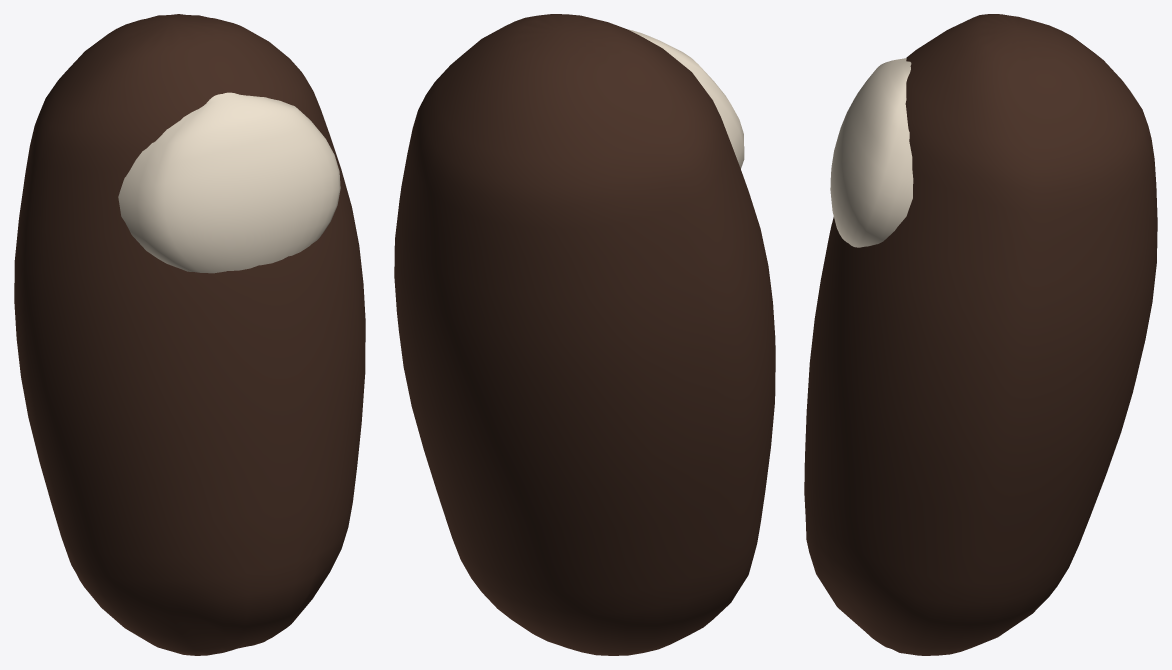
The model's file is Baby.fbx.
3 renders of one model, left to right at view 1: azimuth 30°, elevation 25°; view 2: azimuth 150°, elevation 25°; view 3: azimuth 270°, elevation 25°, orthographic. The views are drawn at different scales.
Visible parts, largest first — view 1: Sphere.001; view 2: Sphere.001; view 3: Sphere.001.
Boxes of the visible parts, left/top/right/bottom form: Sphere.001: left=14, top=14, right=365, bottom=655; Sphere.001: left=394, top=14, right=775, bottom=655; Sphere.001: left=804, top=14, right=1157, bottom=655.
Bounding box in the file's own units: 103 × 183 × 95.83.
